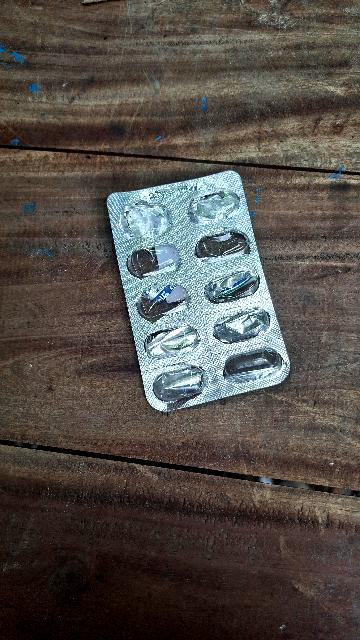medicine: (86, 154, 303, 418)
